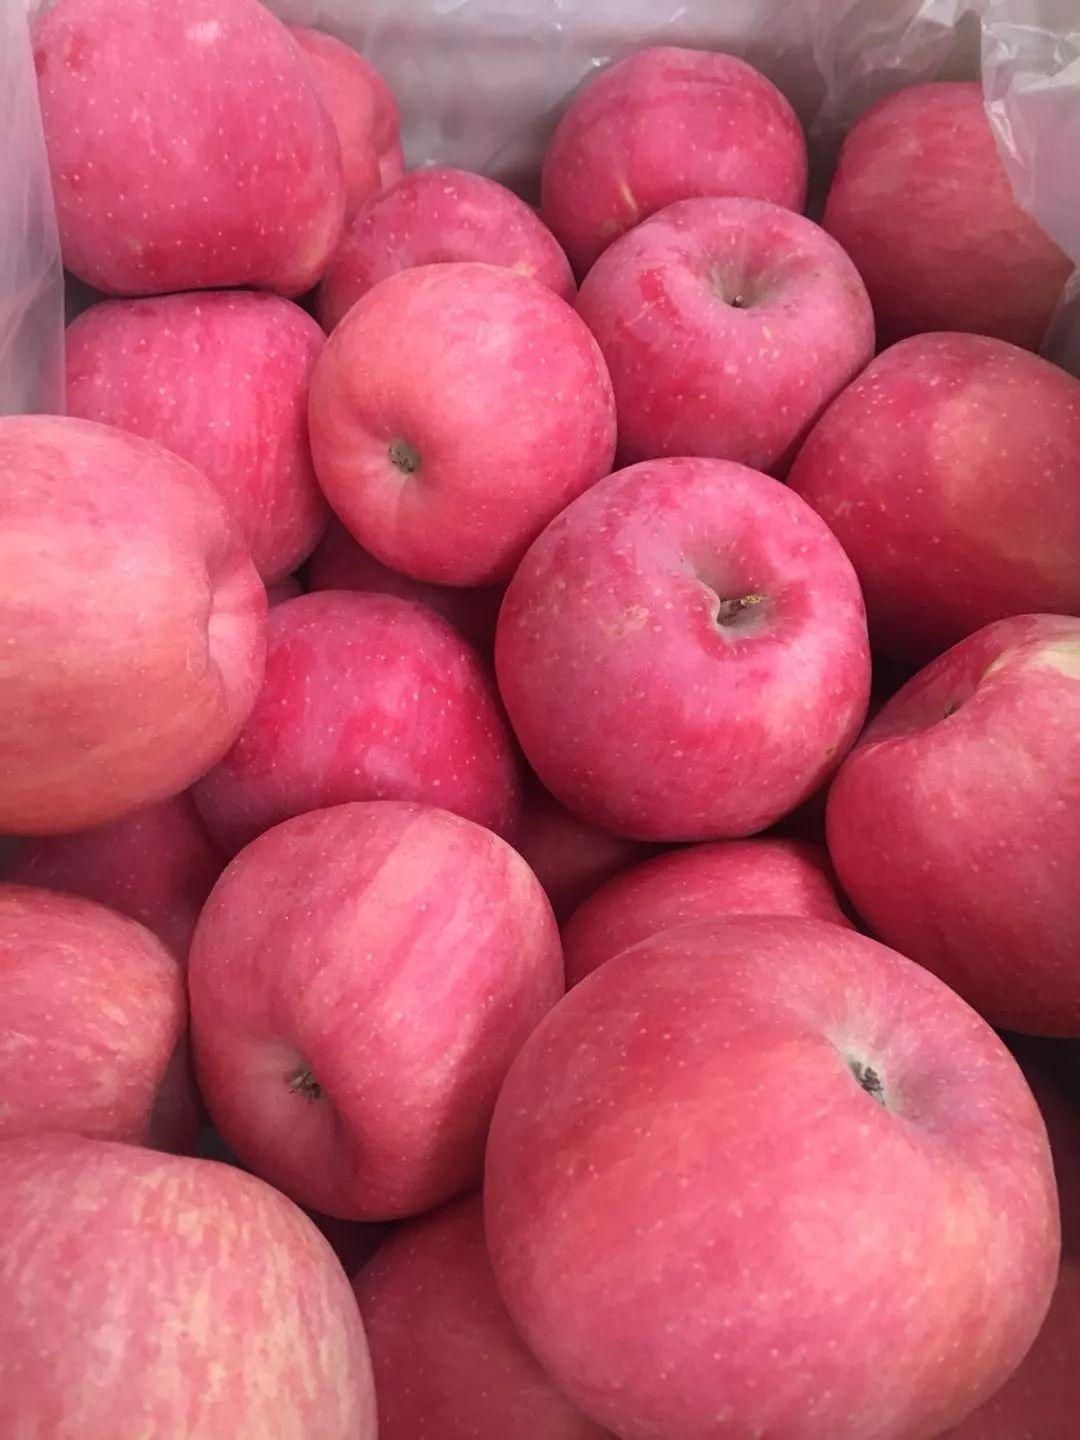apple: (488, 910, 1052, 1440), (187, 790, 565, 1193), (499, 463, 888, 836), (827, 609, 1080, 1037), (307, 261, 627, 590), (33, 1, 366, 303), (793, 334, 1074, 655), (569, 204, 874, 475), (64, 288, 329, 578), (824, 83, 1071, 351), (541, 46, 815, 271), (348, 1197, 593, 1435)
